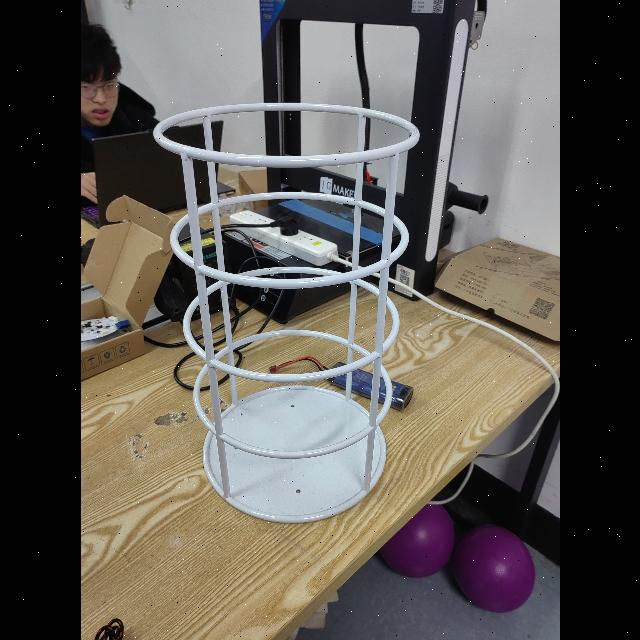S: (148, 99, 424, 528)
